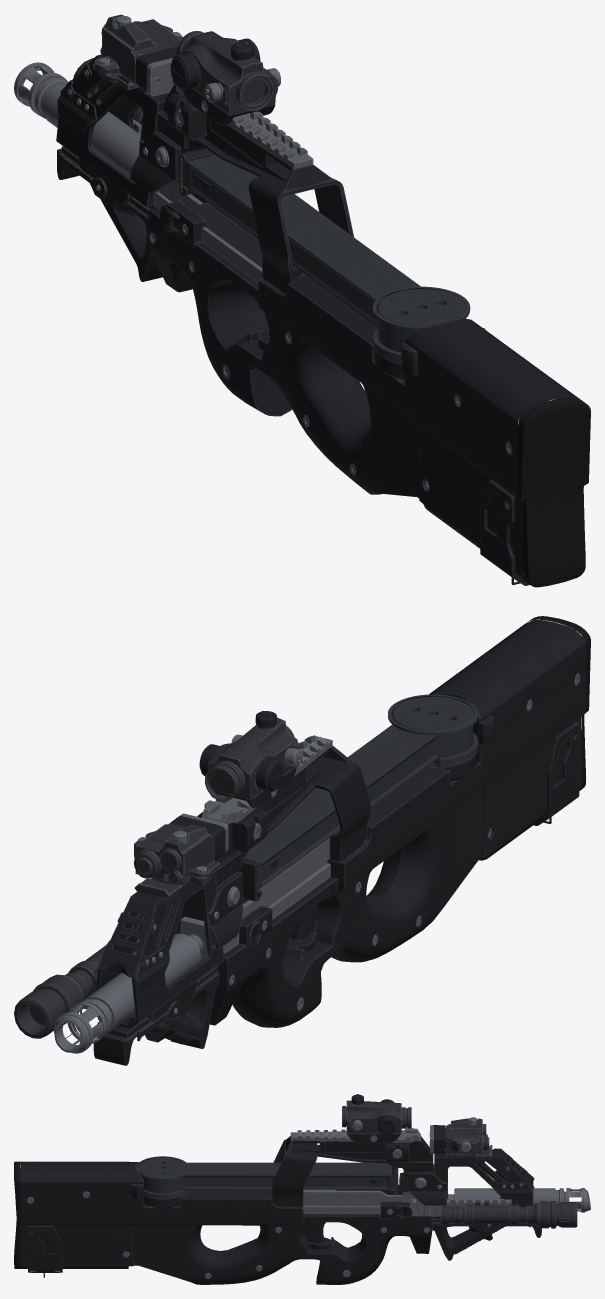
The picture shows the model from 3 angles, top to bottom: view 1: azimuth 30°, elevation 25°; view 2: azimuth 150°, elevation 25°; view 3: azimuth 270°, elevation 25°; orthographic projection. The views are drawn at different scales.
Visible parts, largest first — view 1: P90; view 2: P90; view 3: P90.
Boxes of the visible parts, bbox=[...] form: P90: bbox=[14, 14, 590, 587]; P90: bbox=[14, 616, 590, 1065]; P90: bbox=[14, 1094, 590, 1284].
Bounding box in the file's own units: 0.0628 × 0.1797 × 0.5.
1 material, 1 textured.
